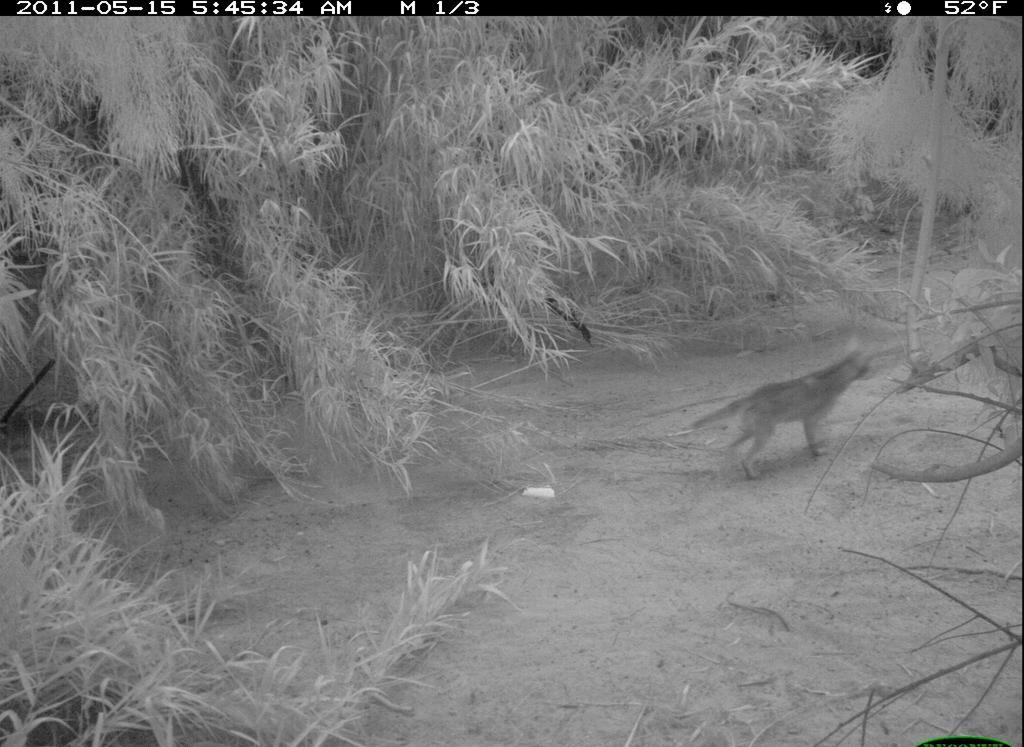coyote: (694, 341, 884, 487)
